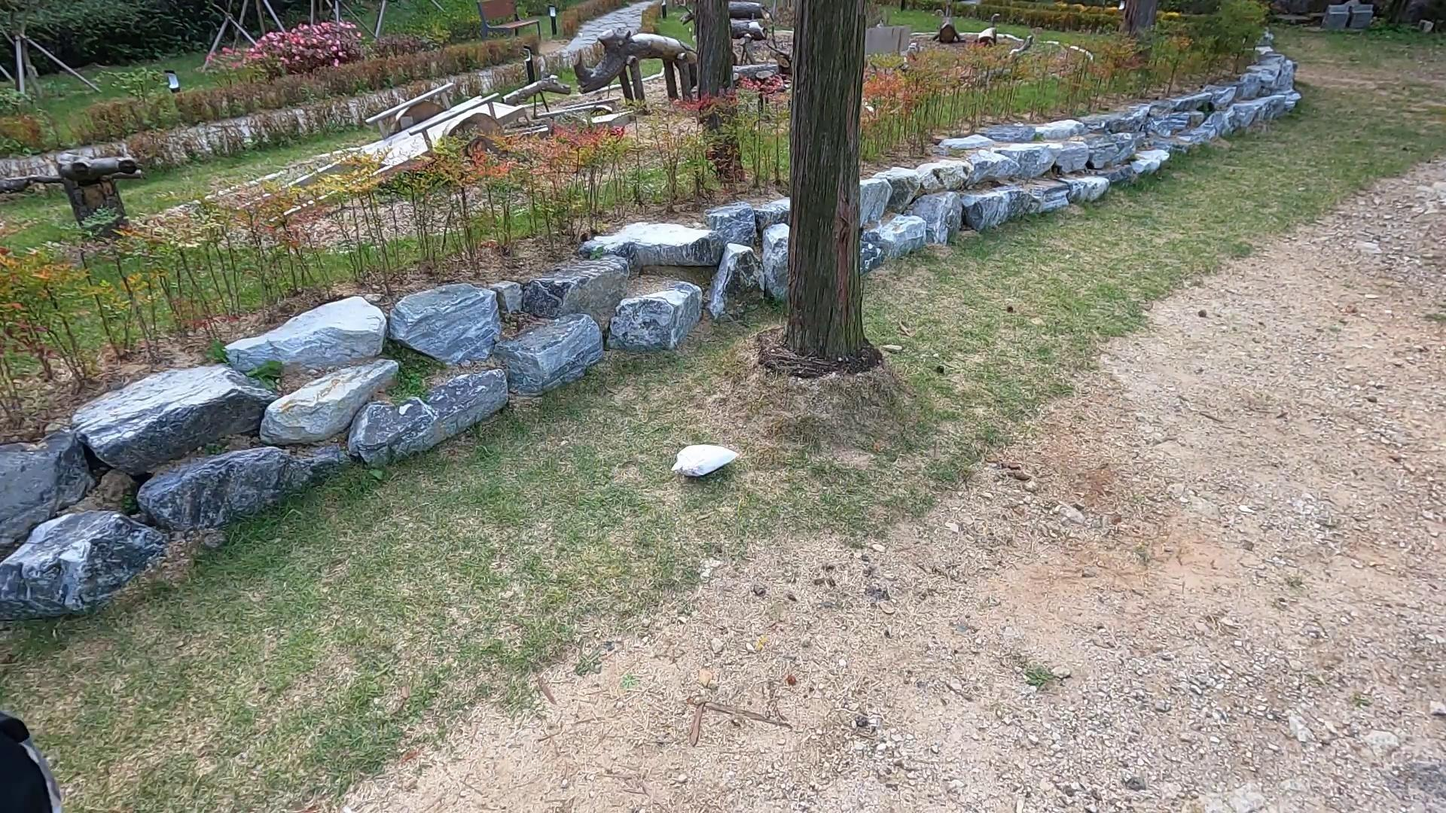trash: (672, 440, 744, 482)
